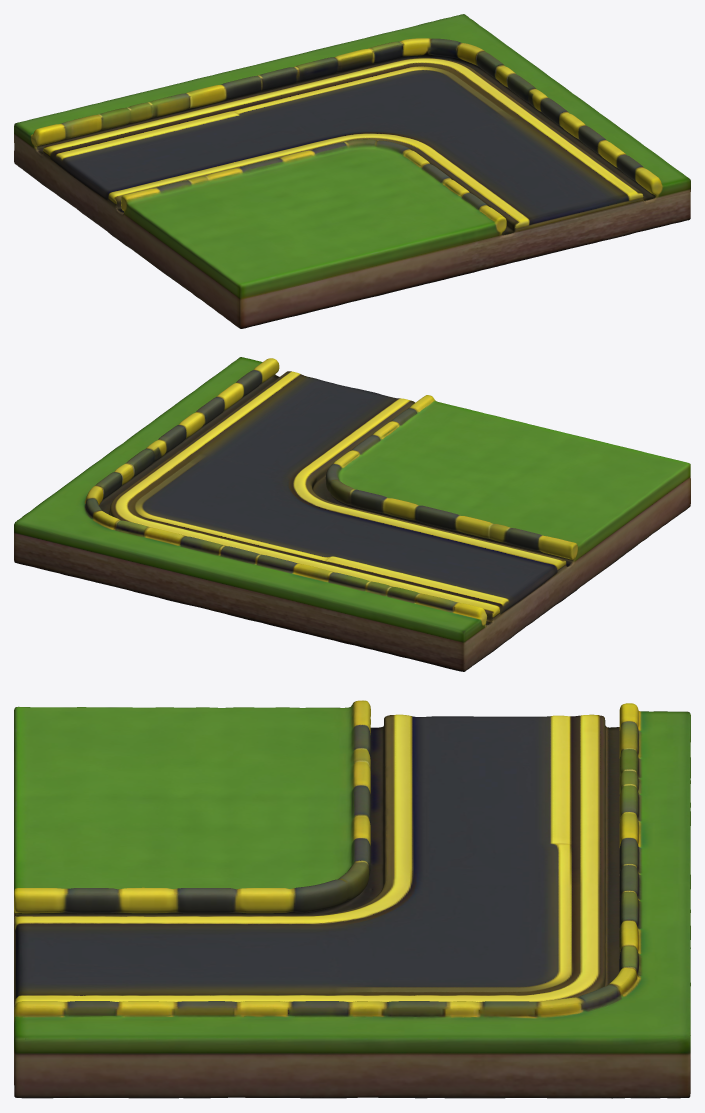
File: isometric_road_tile_3d_model_2.fbx
3 views of the same model, one above another, from view 1: azimuth 30°, elevation 25°; view 2: azimuth 150°, elevation 25°; view 3: azimuth 270°, elevation 25° (orthographic). The views are drawn at different scales.
Visible parts, largest first — view 1: tripo_node_0269e349; view 2: tripo_node_0269e349; view 3: tripo_node_0269e349.
Part boxes in pixels (box(x1,y1,x2,y2)): tripo_node_0269e349: box(14, 14, 690, 328); tripo_node_0269e349: box(14, 357, 690, 671); tripo_node_0269e349: box(14, 700, 690, 1098).
Size of the model in its own units: 0.979 by 0.1003 by 0.8536.
